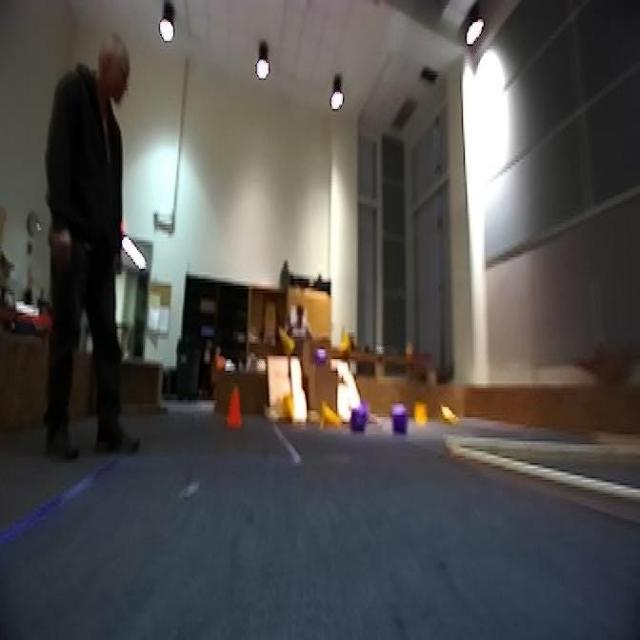frc_cone: (434, 400, 468, 434), (278, 325, 299, 358), (281, 393, 295, 426), (412, 400, 428, 424), (321, 403, 338, 424), (341, 323, 352, 352)
frc_cube: (348, 407, 372, 439), (390, 407, 408, 432), (314, 349, 328, 366)
